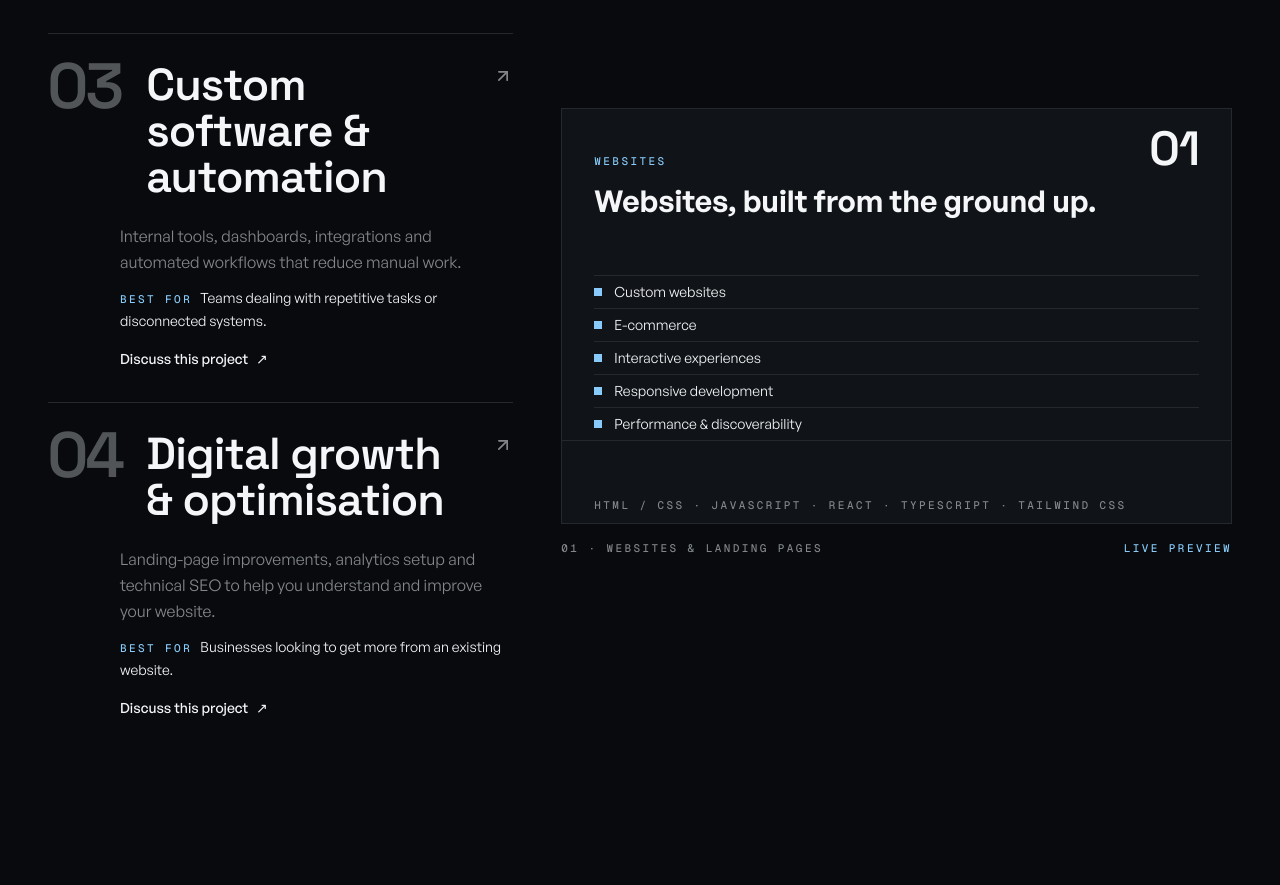
Test: ServicePreviews — preserved desktop and mobile switching › switches the mobile preview on tap, one service at a time
(page scrolled)
Step 1. Click the button "04 Digital growth & optimisation" → (281,474), box x1=48 y1=403 x2=513 y2=546
(page scrolled)
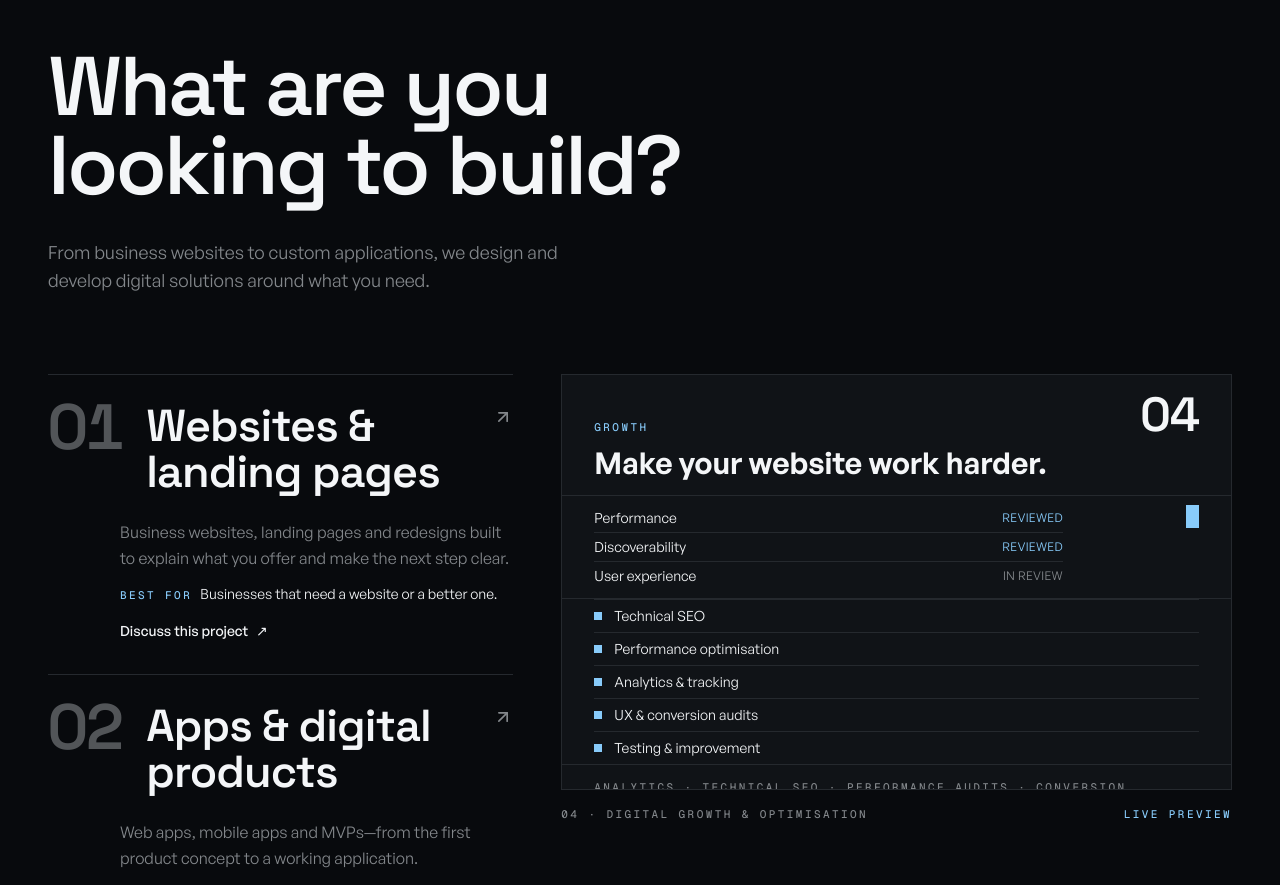
Now the button "01 Websites & landing pages" is collapsed, box x1=48 y1=375 x2=513 y2=519
